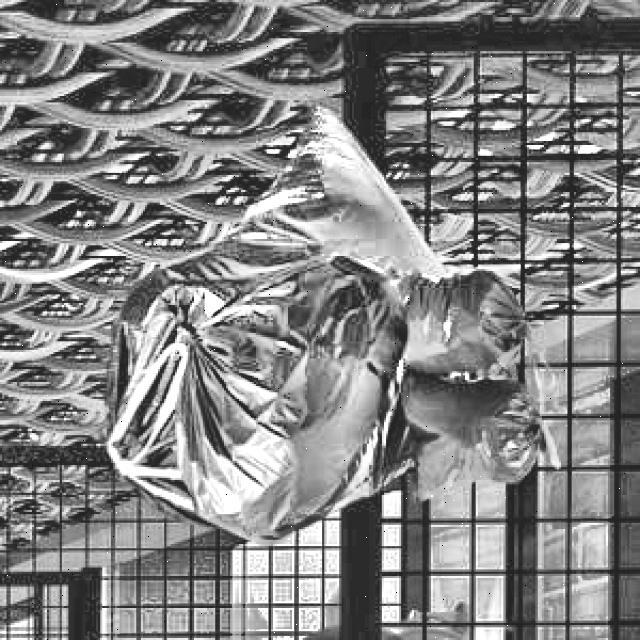Trashbag: (94, 119, 410, 555), (402, 368, 559, 502), (392, 262, 523, 374)
